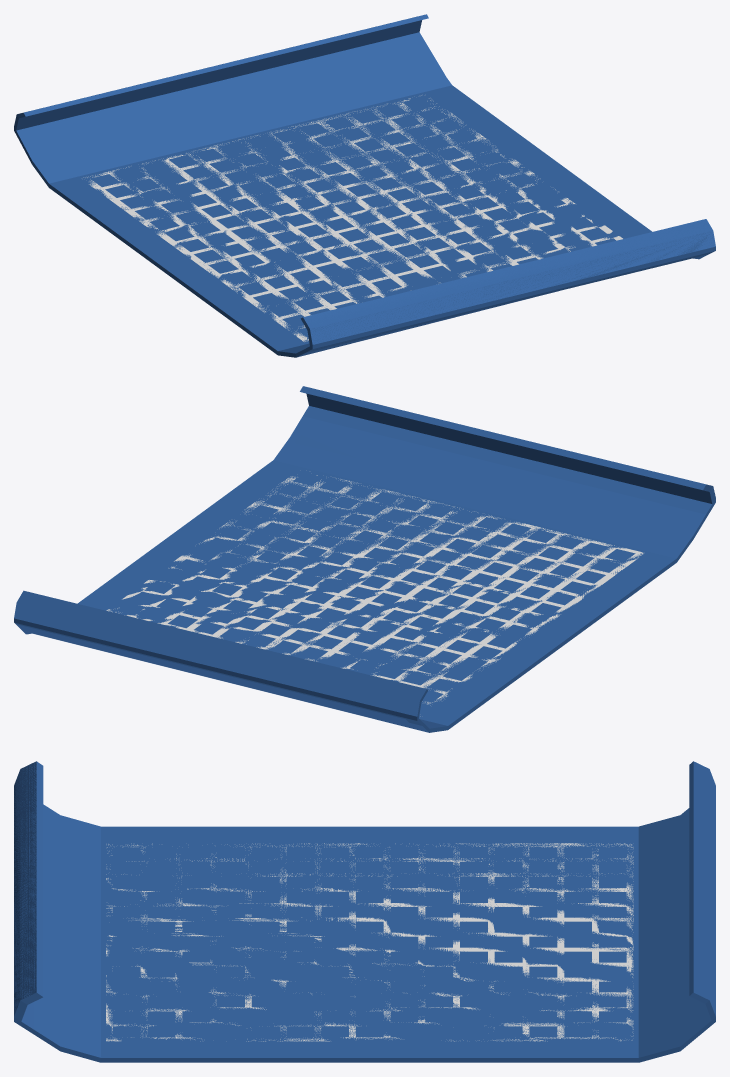
3 views of the same model, one above another, from view 1: azimuth 30°, elevation 25°; view 2: azimuth 150°, elevation 25°; view 3: azimuth 270°, elevation 25° (orthographic). The views are drawn at different scales.
Visible parts, largest first — view 1: Cube; view 2: Cube; view 3: Cube.
Boxes of the visible parts, x1=… form: Cube: x1=14, y1=14, x2=715, y2=357; Cube: x1=14, y1=386, x2=715, y2=732; Cube: x1=14, y1=761, x2=715, y2=1062.
Bounding box in the file's own units: 229 × 31.68 × 292.
